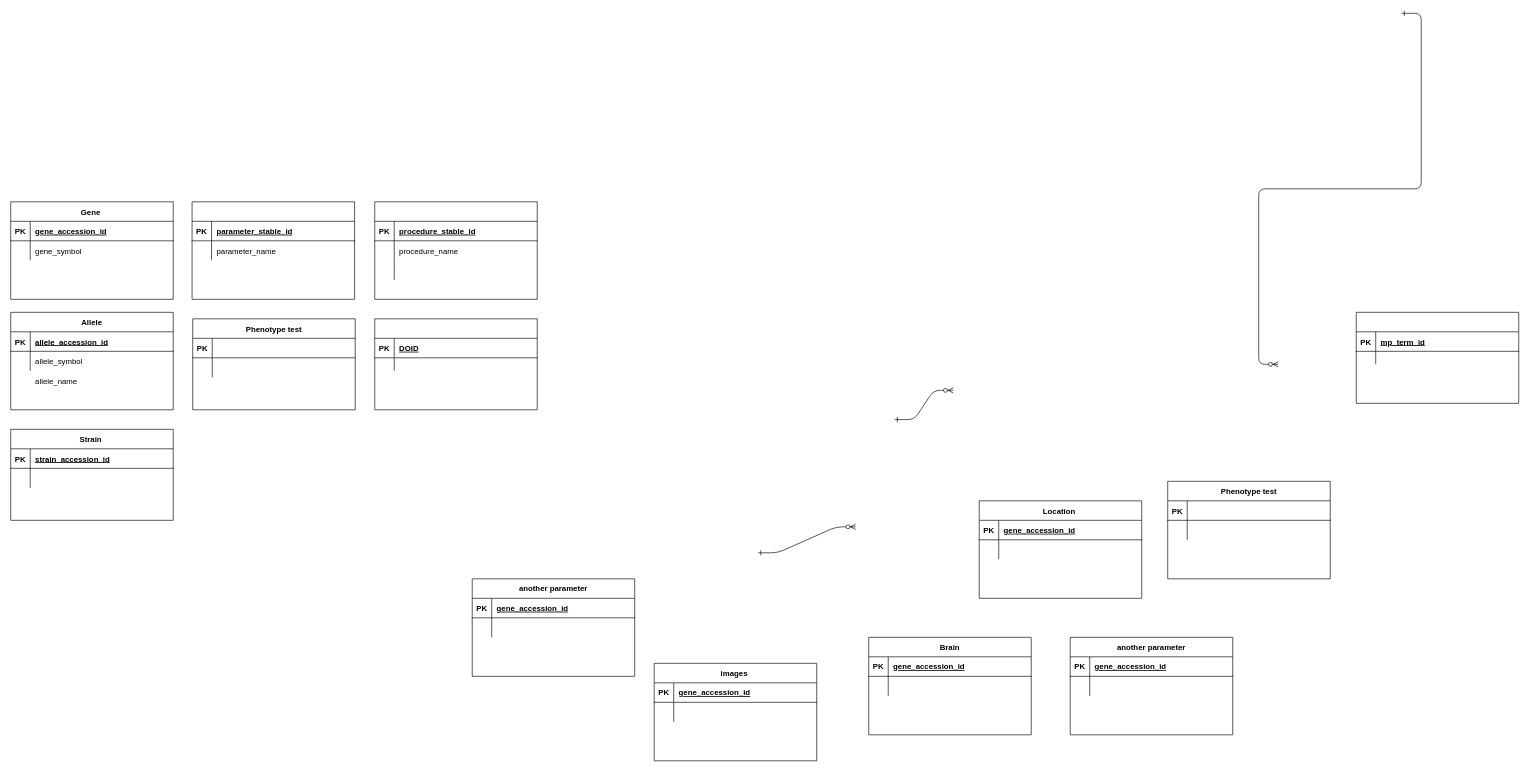
Image size: 1529x772. Some labels were removed from this diagram. Here are the shapes that lost their labels. From the top down, the box of each, then its label:
(191, 201, 355, 299): Phenotyping parameter
(374, 201, 537, 299): Phenotyping procedure
(374, 318, 537, 410): Disease ontology
(1356, 312, 1519, 403): mammalian phenotype
